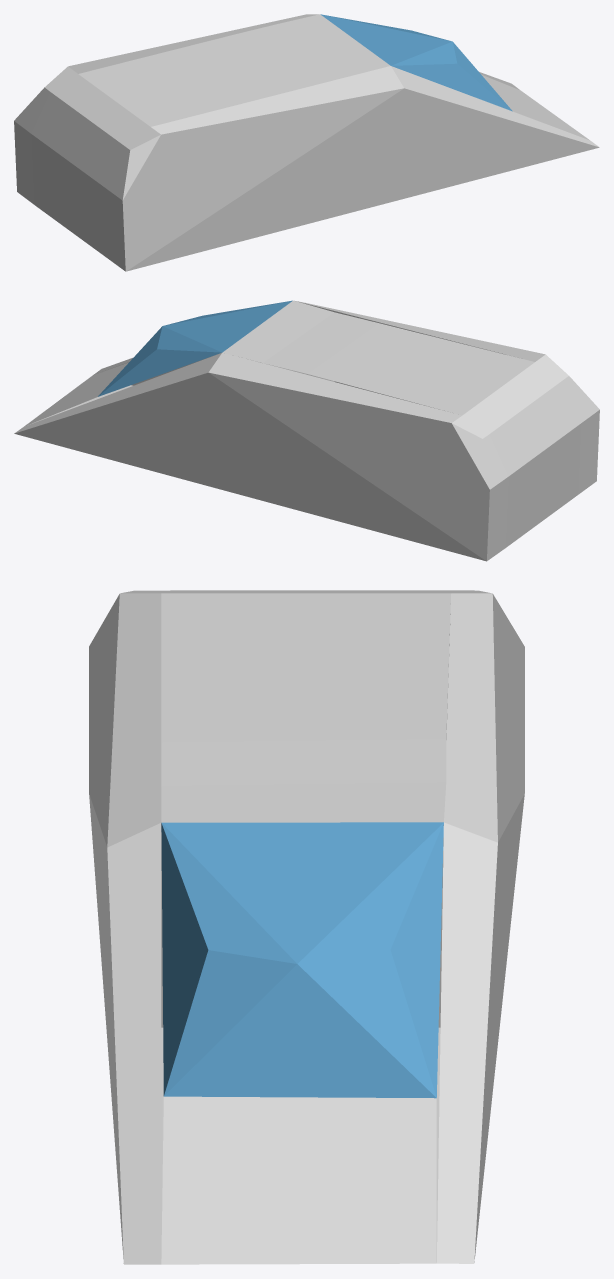
Rendered from Car_Model.fbx.
3 views of the same model, one above another, from view 1: azimuth 30°, elevation 25°; view 2: azimuth 150°, elevation 25°; view 3: azimuth 270°, elevation 25° (orthographic). The views are drawn at different scales.
Parts seen in each view (by area): view 1: Cube; view 2: Cube; view 3: Cube.
Boxes of the visible parts, bbox=[...] form: Cube: bbox=[14, 14, 599, 271]; Cube: bbox=[14, 300, 599, 561]; Cube: bbox=[89, 590, 524, 1264].
Bounding box in the file's own units: 687 × 167 × 267.
